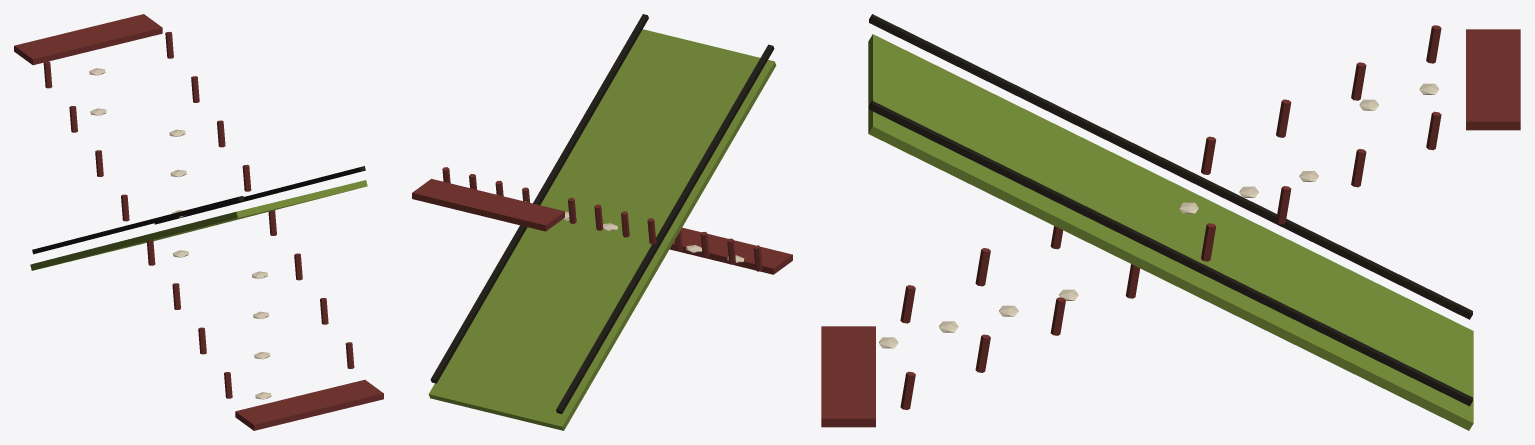
File: root_bridge_ramp.glb
3 renders of one model, left to right at view 1: azimuth 30°, elevation 25°; view 2: azimuth 150°, elevation 25°; view 3: azimuth 270°, elevation 25°, orthographic. The views are drawn at different scales.
Visible parts, largest first — view 1: root_bridge_ramp; view 2: root_bridge_ramp; view 3: root_bridge_ramp.
Part boxes in pixels (<box>): root_bridge_ramp: <box>14,14,383,430</box>; root_bridge_ramp: <box>412,14,792,430</box>; root_bridge_ramp: <box>821,14,1520,430</box>.
Size of what is drawn, in the model's own units: 8 by 13.16 by 25.6.
Materials: 1 (1 with a texture image).
